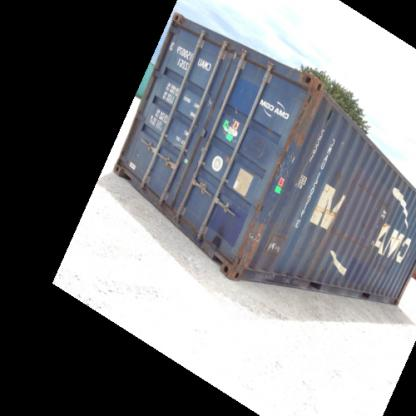Damage: (266, 85, 316, 188), (235, 202, 293, 272), (320, 221, 380, 255), (338, 167, 384, 200), (300, 267, 360, 288), (370, 279, 402, 304), (209, 222, 228, 250), (322, 104, 336, 129), (203, 94, 221, 113), (313, 207, 344, 215)
